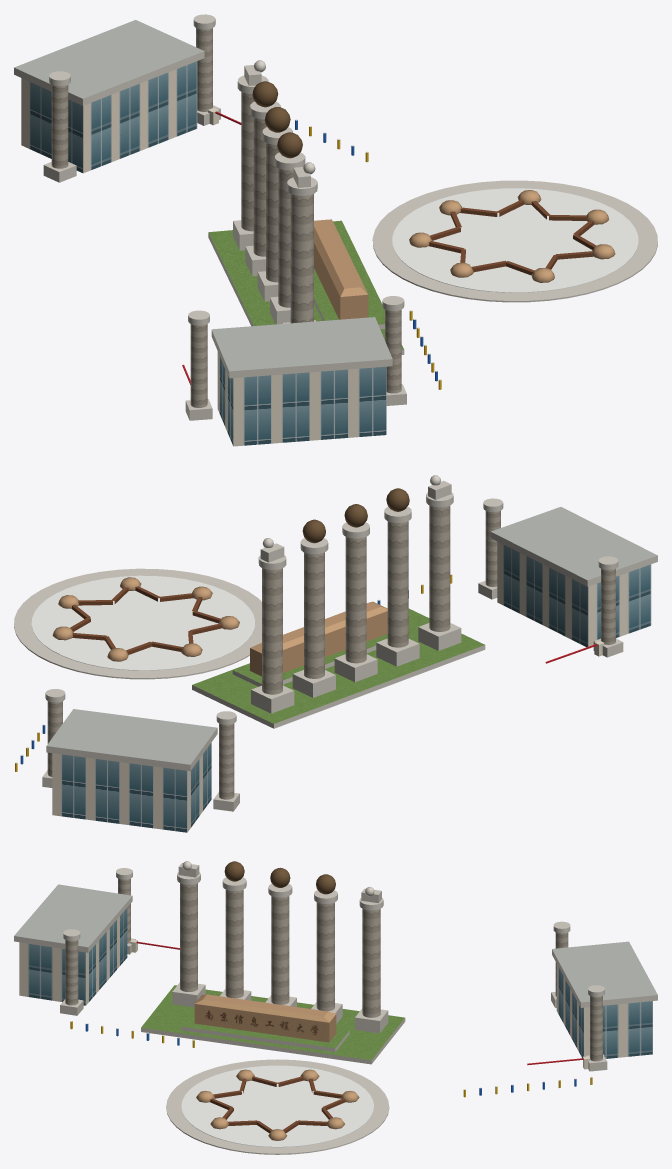
File: dongdamen.glb
The picture shows the model from 3 angles, top to bottom: view 1: azimuth 30°, elevation 25°; view 2: azimuth 150°, elevation 25°; view 3: azimuth 270°, elevation 25°; orthographic projection. The views are drawn at different scales.
Parts seen in each view (by area): view 1: 东大门; view 2: 东大门; view 3: 东大门.
Boxes of the visible parts, left/top/right/bottom form: 东大门: left=14, top=14, right=657, bottom=446; 东大门: left=14, top=475, right=657, bottom=832; 东大门: left=14, top=861, right=657, bottom=1154.
Bounding box in the file's own units: 49.01 × 16.45 × 63.48.
14 materials, 4 textured.
